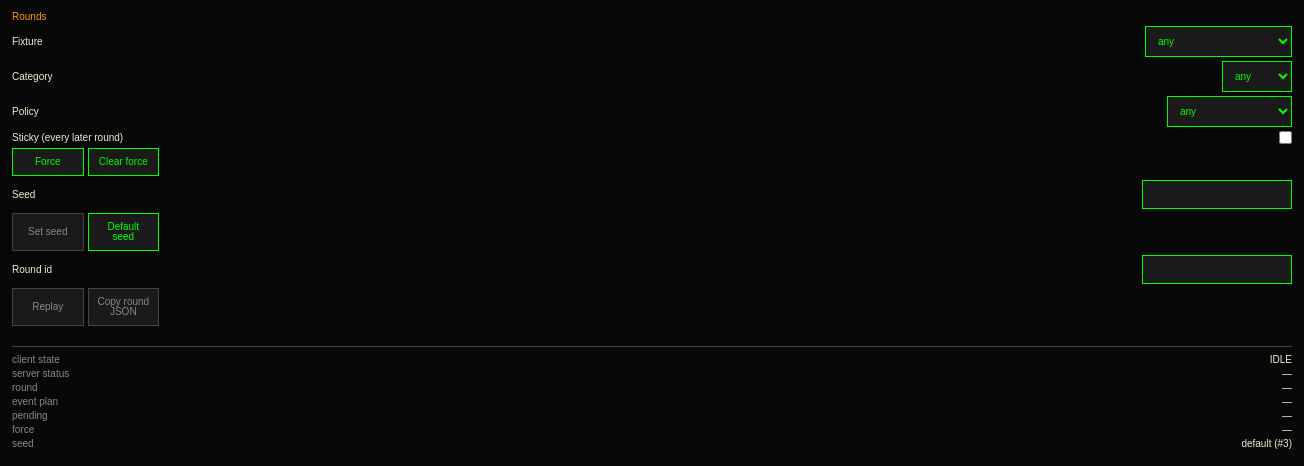
Test: RoundsSection › shows the server's refusal code
Click the button "Force".
click(48, 162)  # box [12, 148, 84, 176]
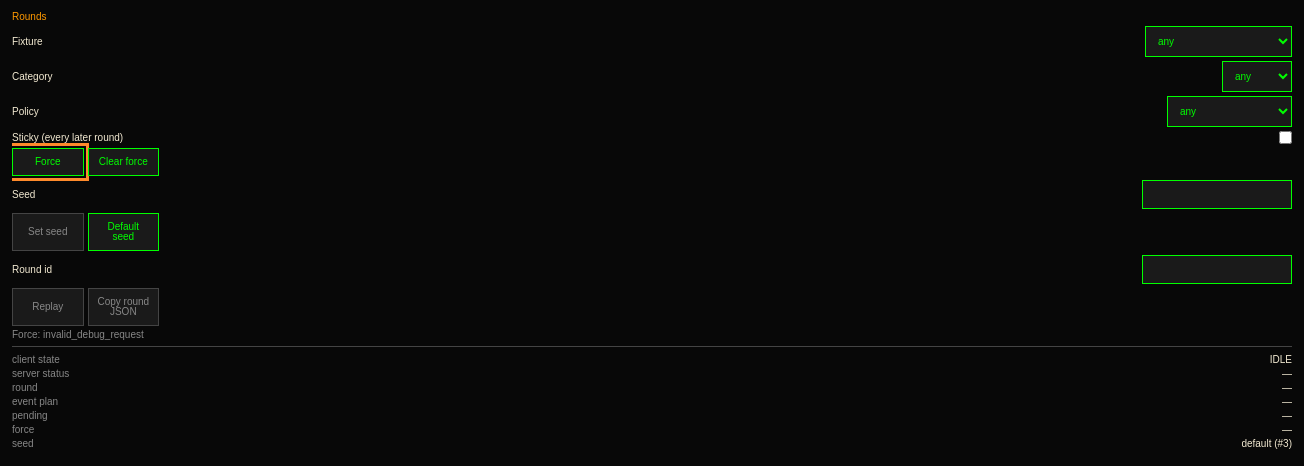
Check: the text "Force: invalid_debug_request" is shown, box [12, 329, 144, 340]
